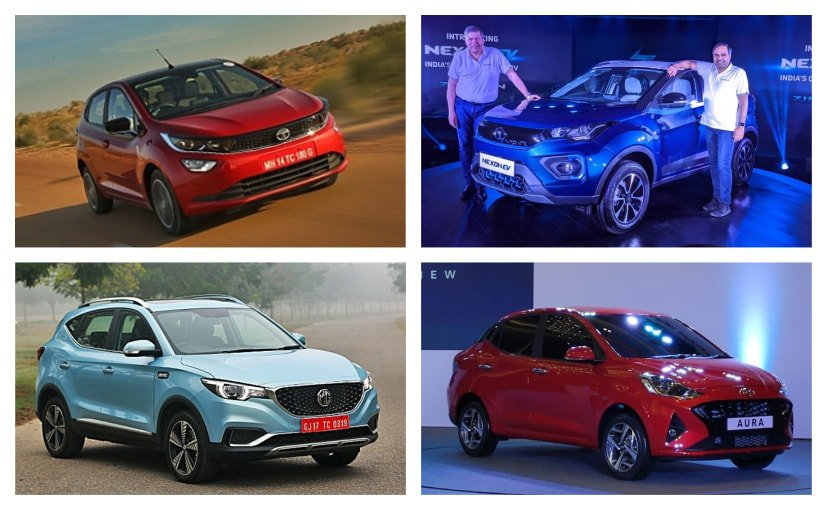car: (33, 288, 385, 474), (451, 300, 796, 474), (474, 46, 756, 216), (83, 57, 350, 220)
